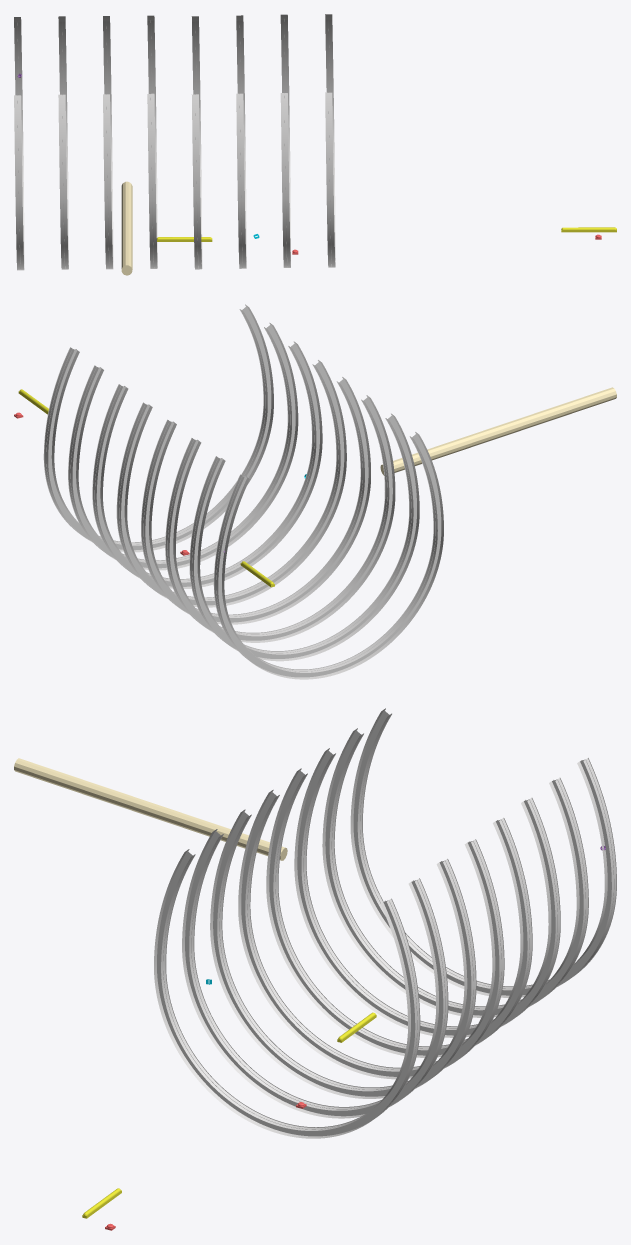
Rendered from tile_478.glb.
3 views of the same model, one above another, from view 1: azimuth 30°, elevation 25°; view 2: azimuth 150°, elevation 25°; view 3: azimuth 270°, elevation 25° (orthographic). The views are drawn at different scales.
Bounding box in the file's own units: 13.55 × 5.1 × 10.73.
